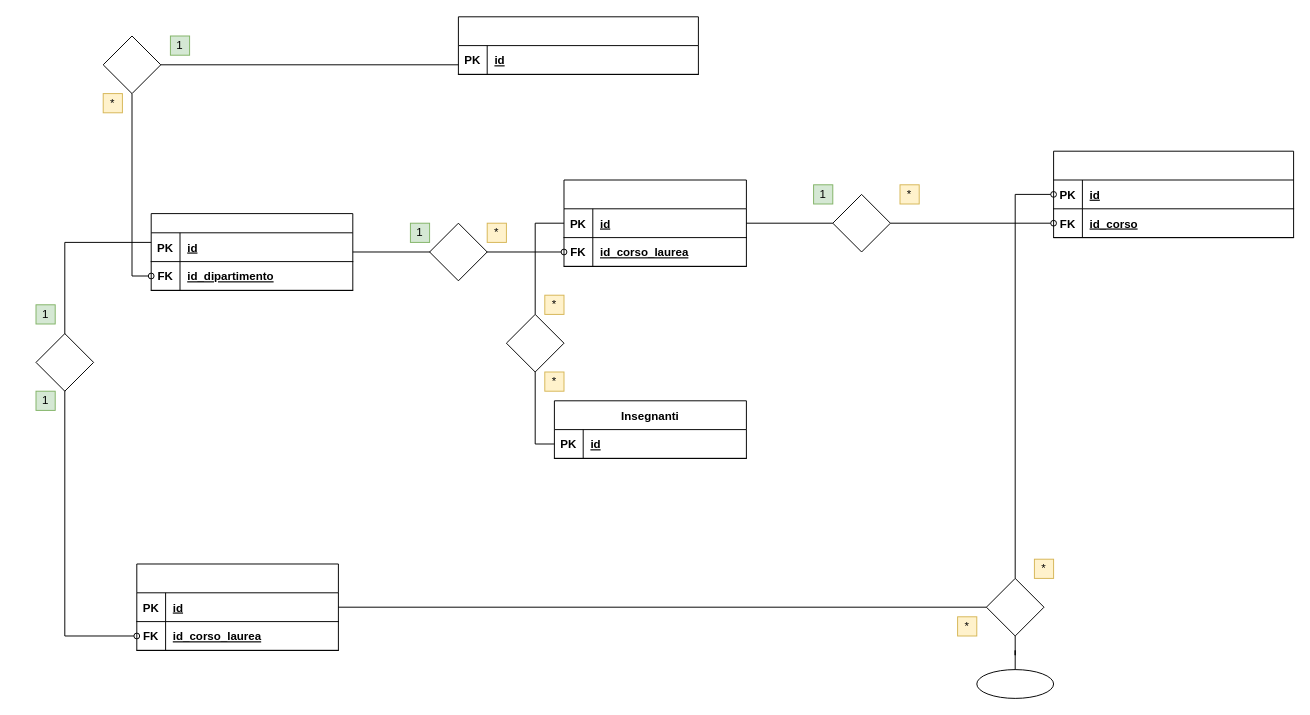
The diagram is 1310 pixels wide and 715 high, and some of its shapes have lost their labels. The shapes that lost their labels are listed below. From the top down, each one's box as (x1, y1, x2, y2) in pixels, then its label:
(457, 16, 698, 74): Dipartimenti
(1053, 150, 1294, 238): Appelli
(563, 179, 746, 266): Corsi
(150, 213, 353, 290): Corsi di laurea
(136, 563, 338, 650): Studenti
(976, 669, 1054, 698): voto
